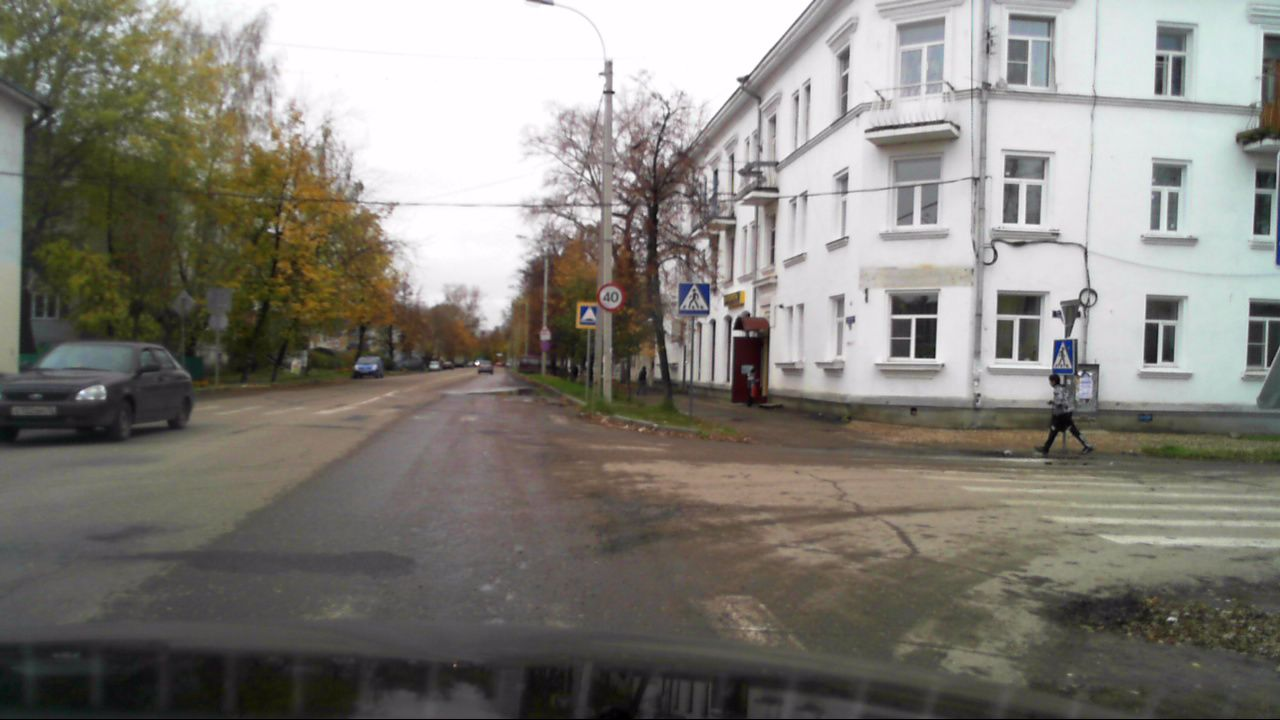speed_warning_40: (595, 282, 624, 311)
